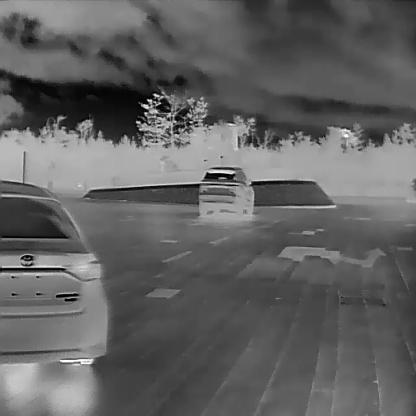car: (0, 179, 107, 364), (196, 165, 254, 216)
